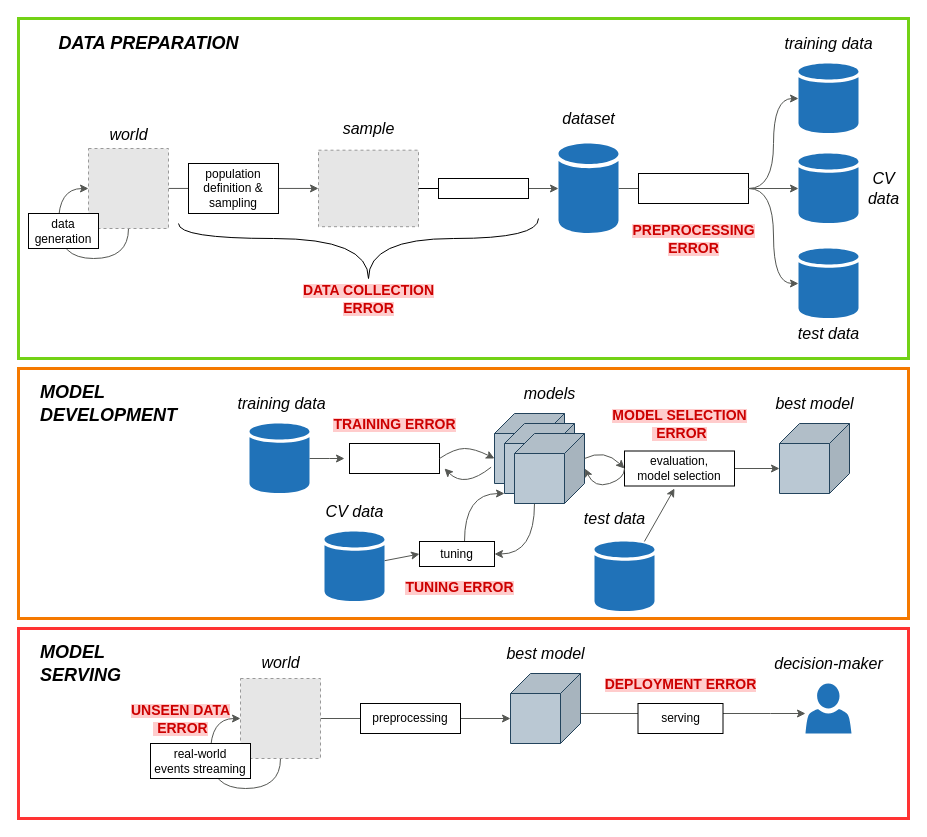
Some shapes in this 927 by 837 pixel diagram are drawn without their labels. Grey dashed boxes stand in for pictures. The shapes that lost their labels are listed below. From the top down, each one's box as (x1, y1, x2, y2) in pixels, then its label:
(438, 178, 528, 198): measurement
(638, 172, 748, 204): preprocessing, train/cv/test split
(348, 442, 440, 474): model learning
